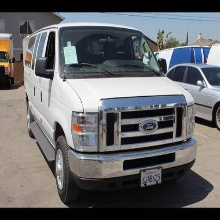no damage: (22, 22, 198, 205), (167, 64, 220, 128)
